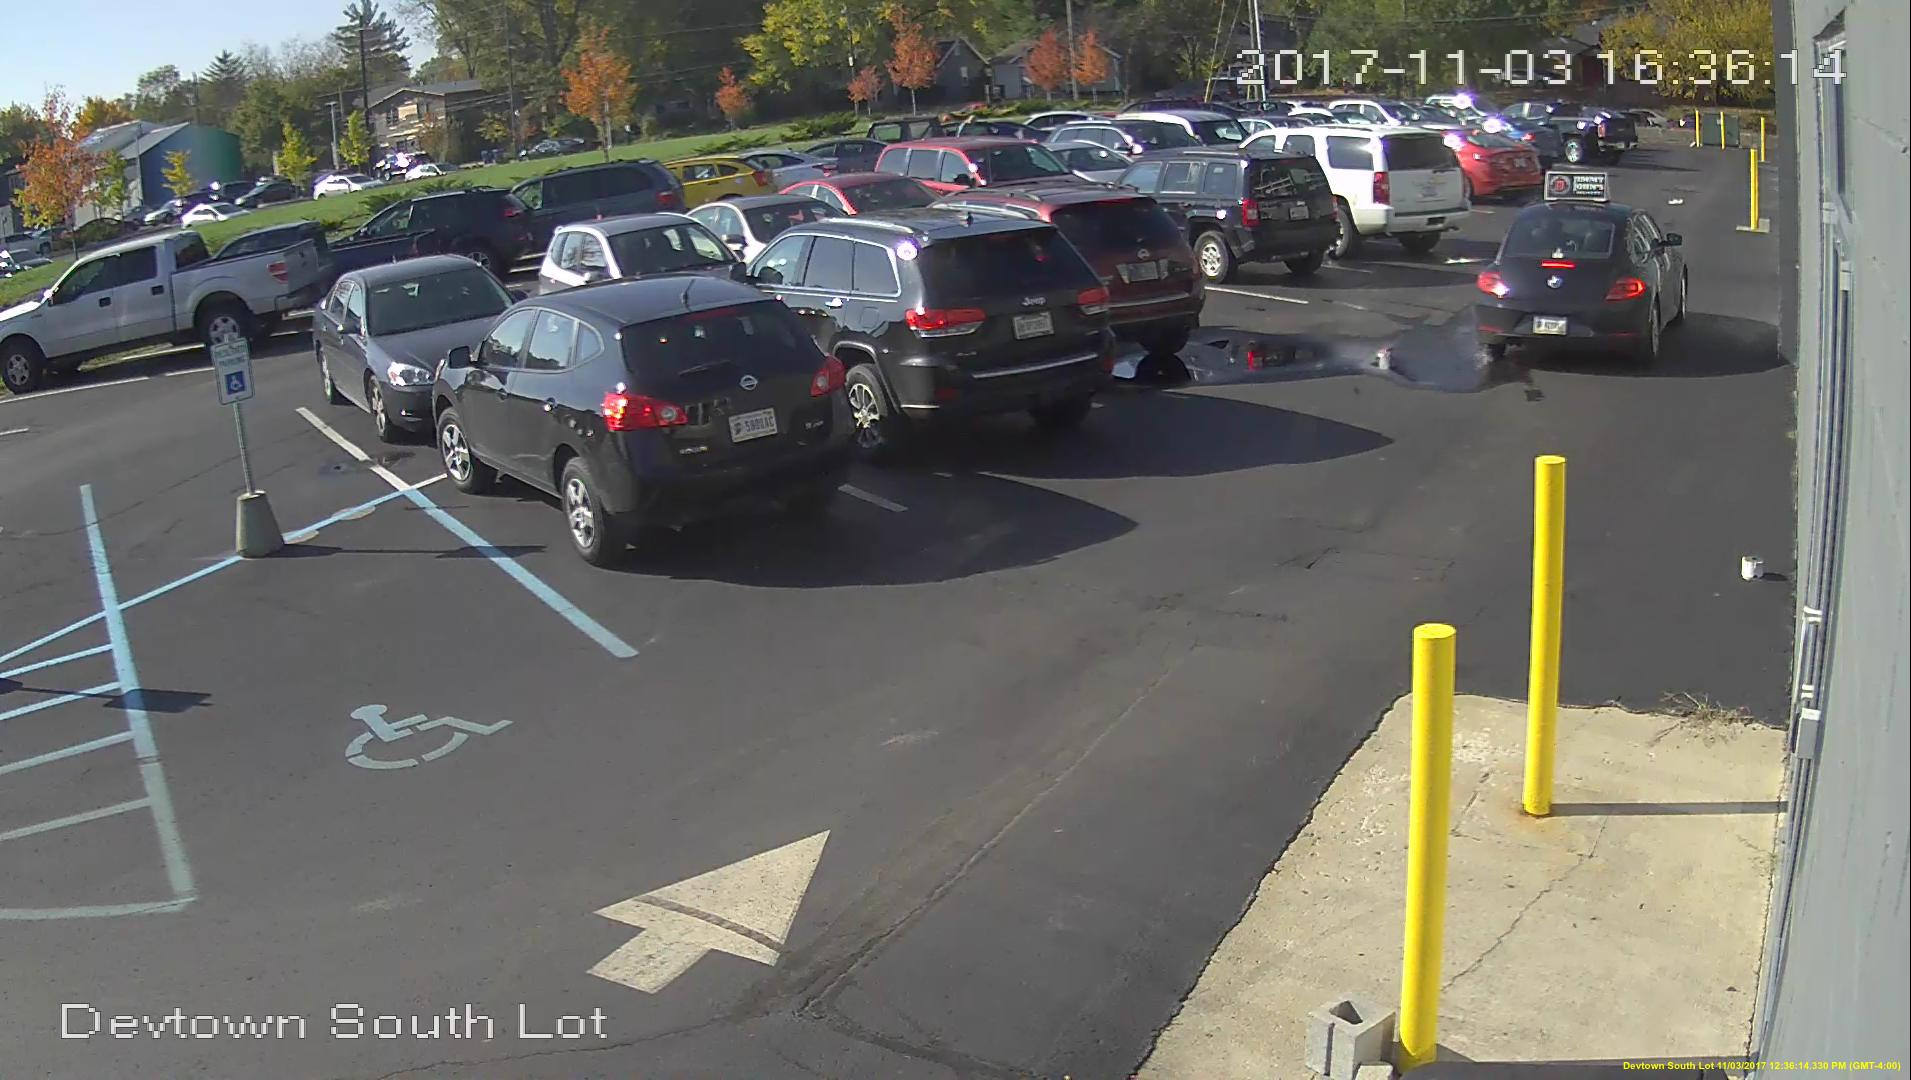jimmy_johns: (1538, 163, 1614, 209)
